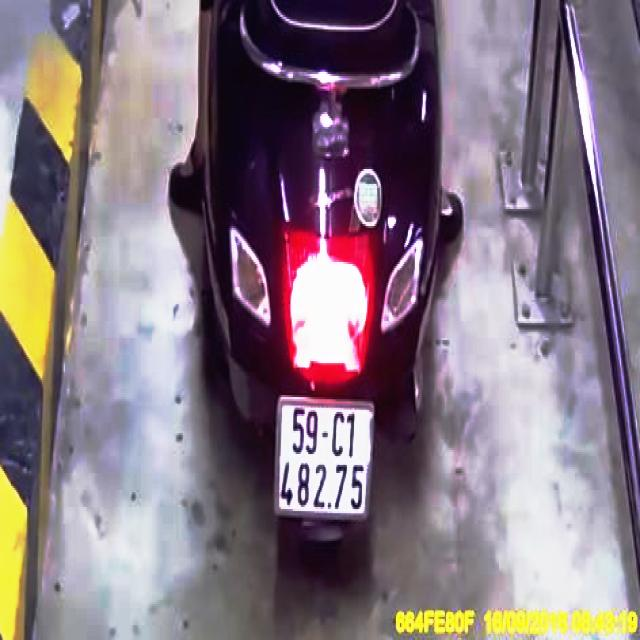license_plate: (275, 399, 375, 520)
